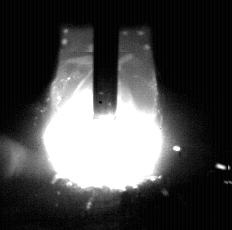arame: (94, 0, 118, 115)
poca: (41, 0, 164, 230)
